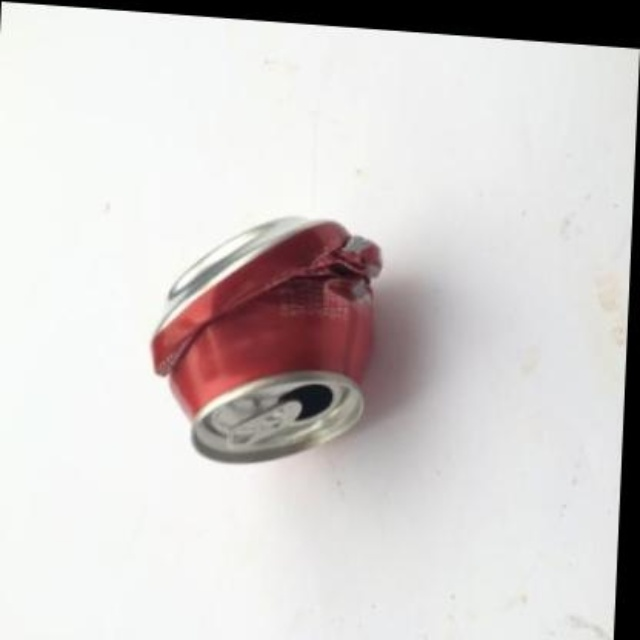trash: (152, 217, 380, 460)
